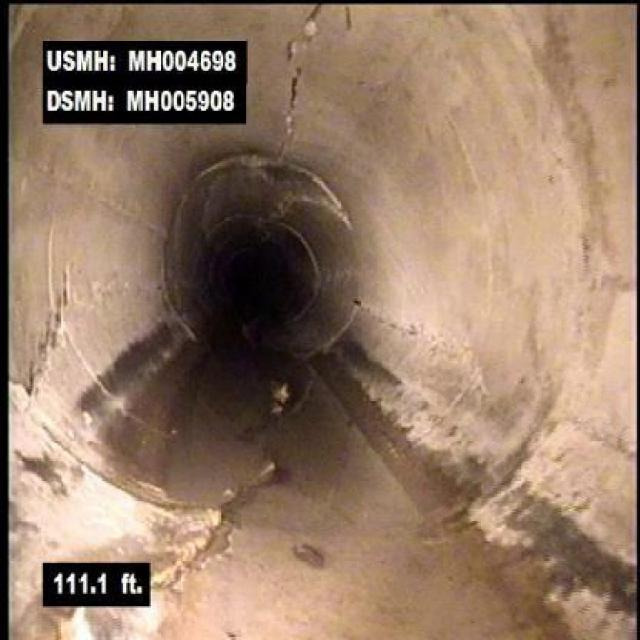Buckling: (152, 462, 276, 596), (300, 6, 322, 34)
Crack: (22, 303, 58, 405), (280, 36, 314, 126)
